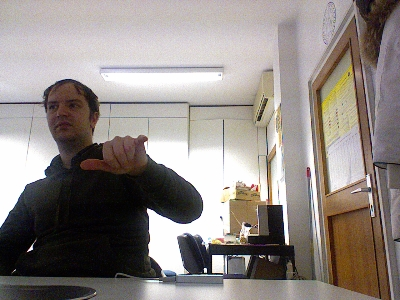六六六: (76, 130, 151, 176)
